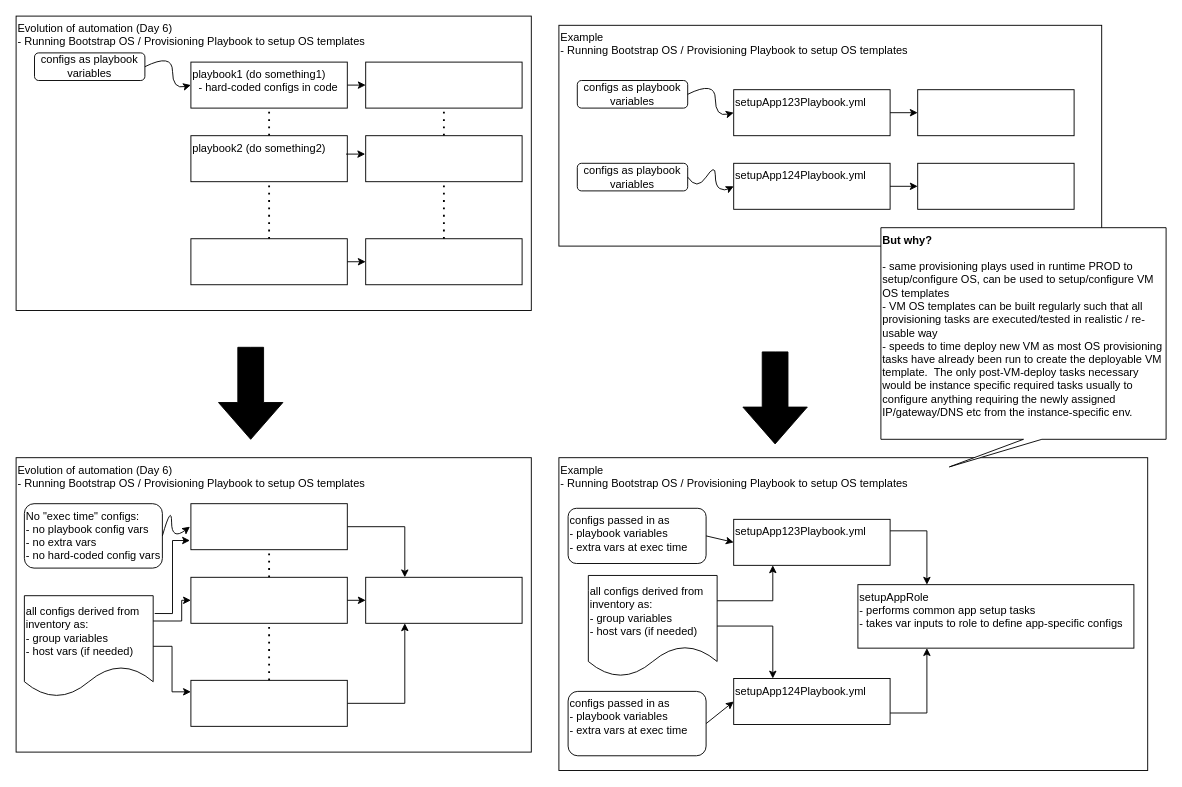
Some shapes in this 1182 by 787 pixel diagram are drawn without their labels. Each missing label, with the centre of its shape:
"playbook1 (do something for app 1) - hard-coded configs in code" goes at point 268,526.
"playbook2 (do something for app 2)" goes at point 268,599.
"playbookX (do something for app 3)" goes at point 268,702.
"playbookX (do somethingX)" goes at point 268,261.
"role1 (do something1) - hard-coded configs in role" goes at point 443,84.
"role2 (do something2)" goes at point 443,158.
"roleX (do somethingX)" goes at point 443,261.
"setupApp123Role - hard-coded configs in code" goes at point 995,112.
"setupApp124Role - hard-coded configs in code" goes at point 995,185.
"shared role for common tasks (do something common)" goes at point 443,599.
